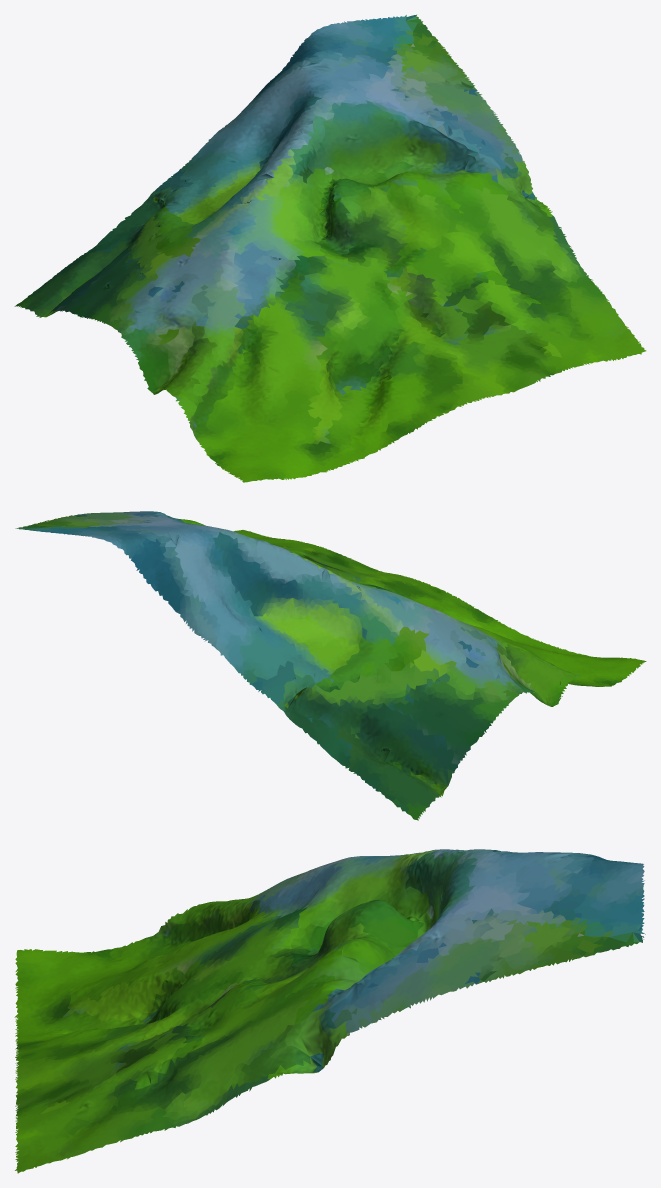
File: chunk_1_2_LOD0.glb
3 renders of one model, top to bottom at view 1: azimuth 30°, elevation 25°; view 2: azimuth 150°, elevation 25°; view 3: azimuth 270°, elevation 25°, orthographic. The views are drawn at different scales.
Visible parts, largest first — view 1: chunk_1_2_LOD0; view 2: chunk_1_2_LOD0; view 3: chunk_1_2_LOD0.
Boxes of the visible parts, bbox=[...] form: chunk_1_2_LOD0: bbox=[14, 14, 646, 482]; chunk_1_2_LOD0: bbox=[15, 511, 646, 820]; chunk_1_2_LOD0: bbox=[14, 849, 645, 1173].
Size of the model in its own units: 99.33 by 51.99 by 98.29.
1 material, 1 textured.
